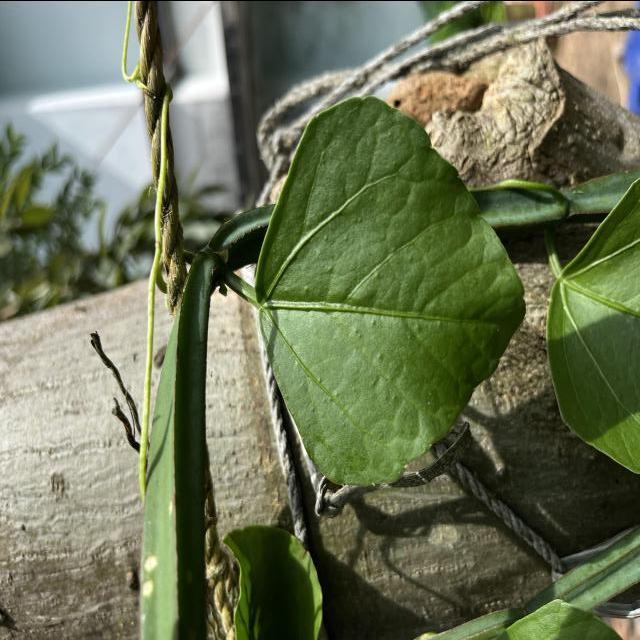Cissus quadrangularis: (252, 90, 528, 490)
